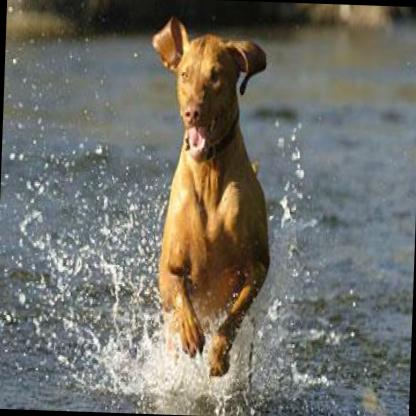vizsla: (136, 19, 280, 385)
